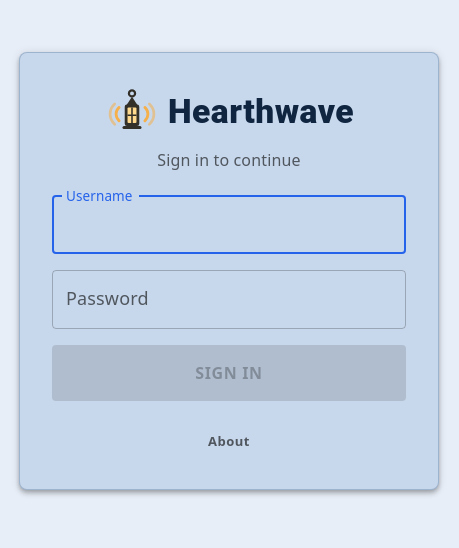
Test: LoginScreen › error handling › shows 401 error message on invalid credentials
The image size is (459, 548).
Step 1. Type "Alice" into the field labelled "Username" → [229, 225], box [52, 196, 406, 254]
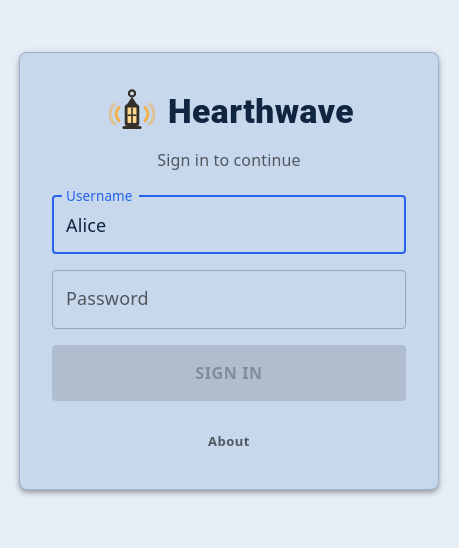
Step 2. Type "wrongpass" into the password field labelled "Password" → [229, 300], box [52, 270, 406, 329]
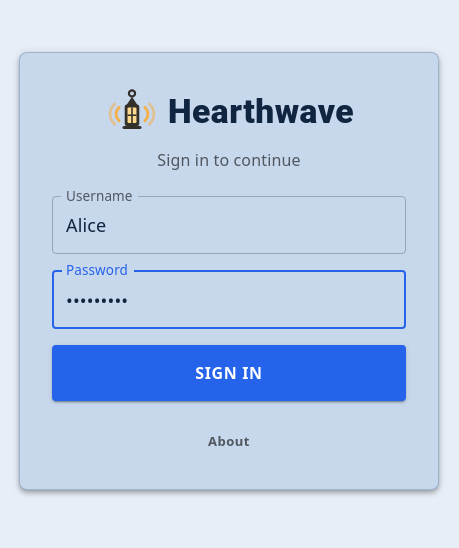
Step 3. Click the button "Sign In" → [229, 373], box [52, 345, 406, 401]
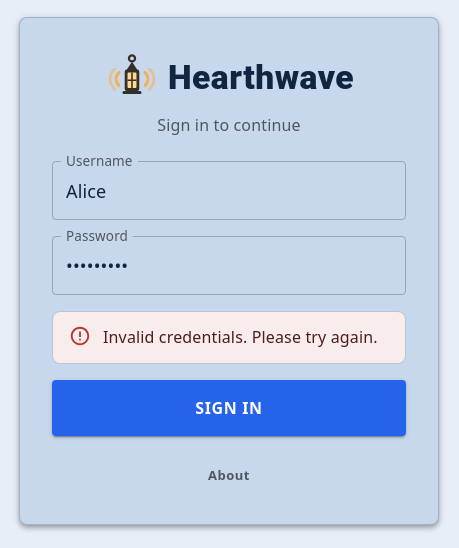
Now the text "Invalid credentials. Please try again." is shown, box [103, 326, 378, 348]
